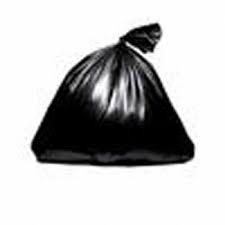Trash: (26, 26, 205, 173)
